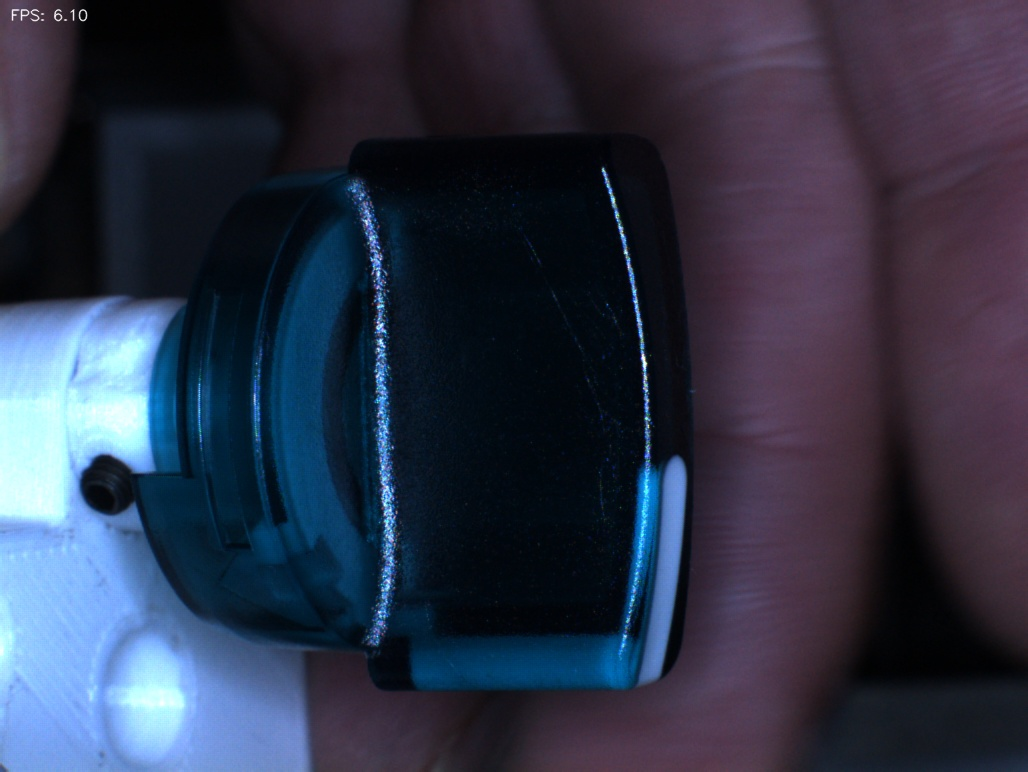Givrage: (513, 220, 628, 512), (415, 591, 477, 684)
